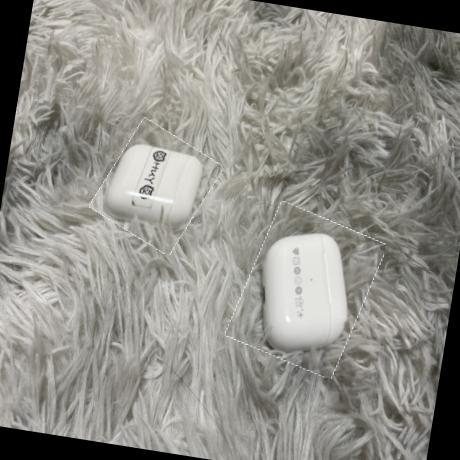airpod2: (93, 119, 220, 254)
airpod3: (229, 202, 383, 378)
